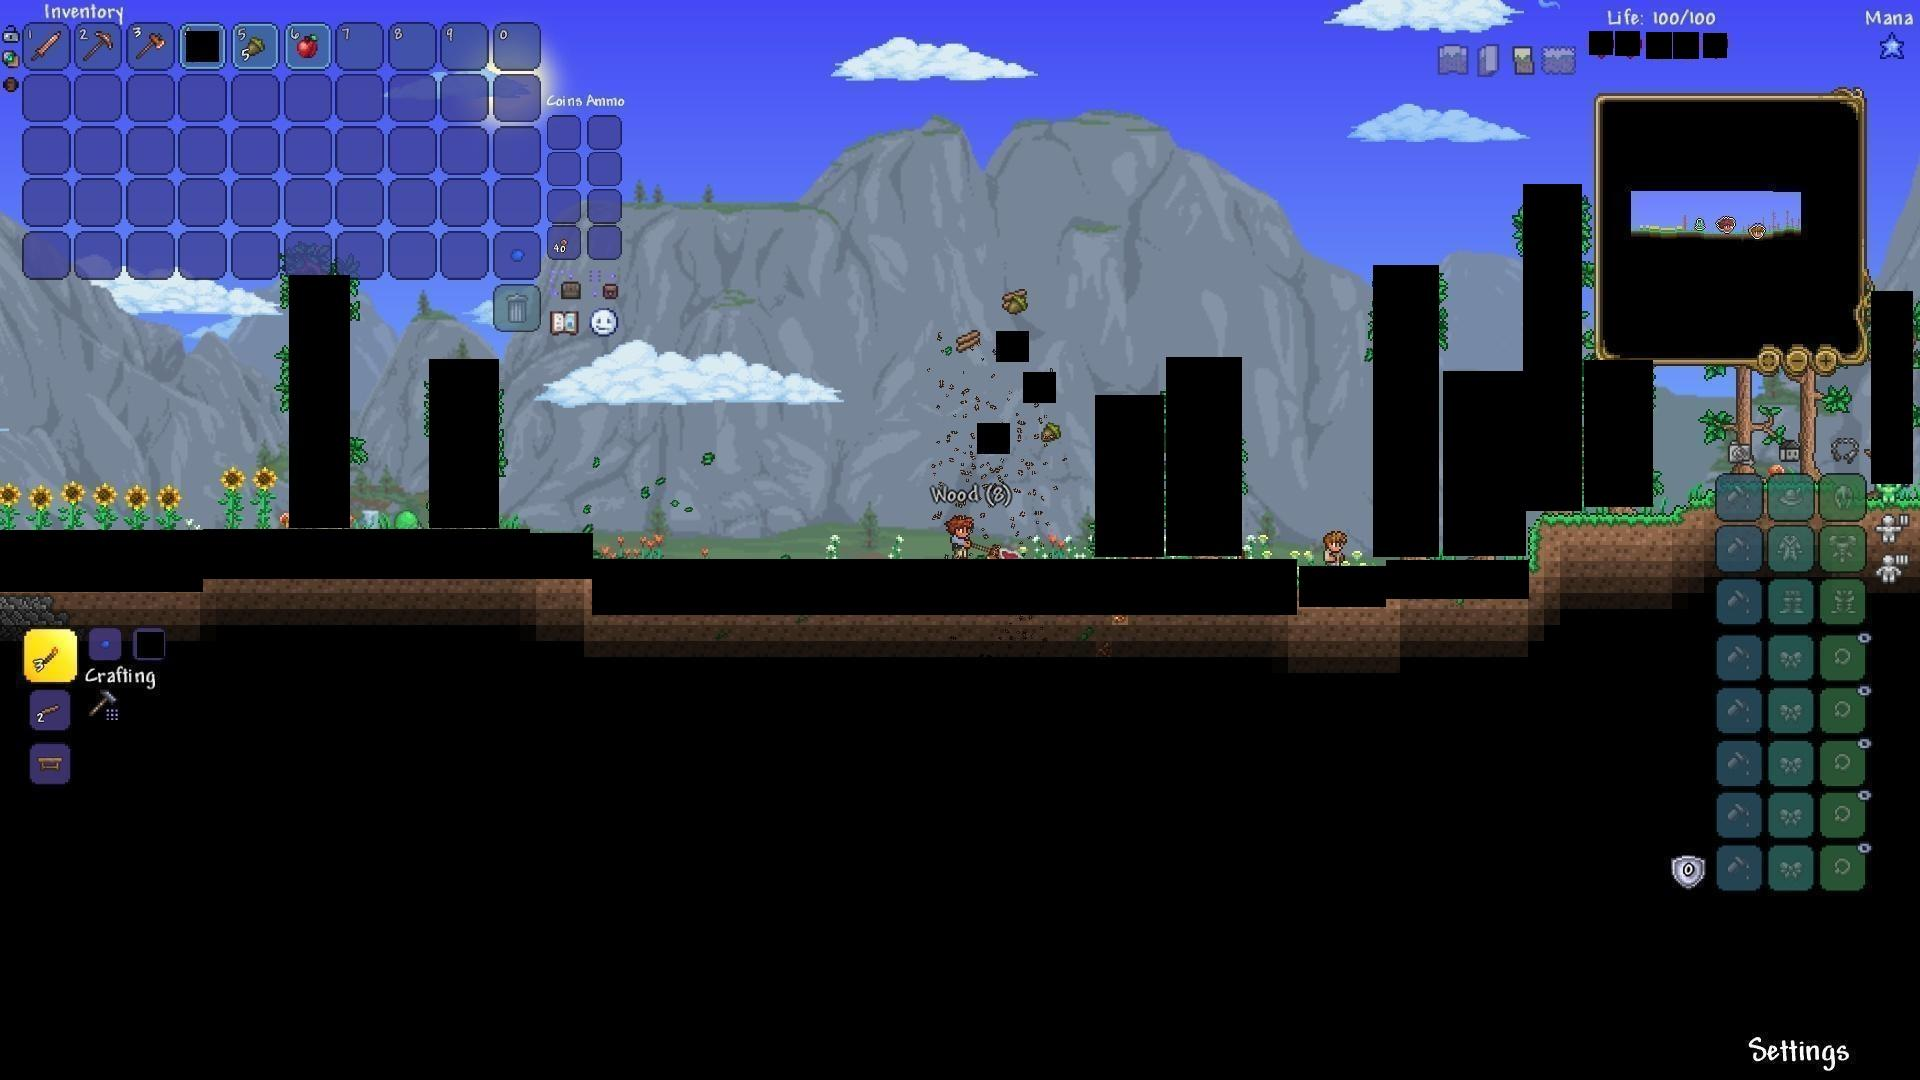dirt: (1526, 510, 1708, 572)
slime: (392, 508, 425, 534)
tree: (1713, 363, 1780, 472), (1783, 367, 1850, 476)
wood: (952, 324, 984, 355)
workbench: (32, 750, 69, 775)
